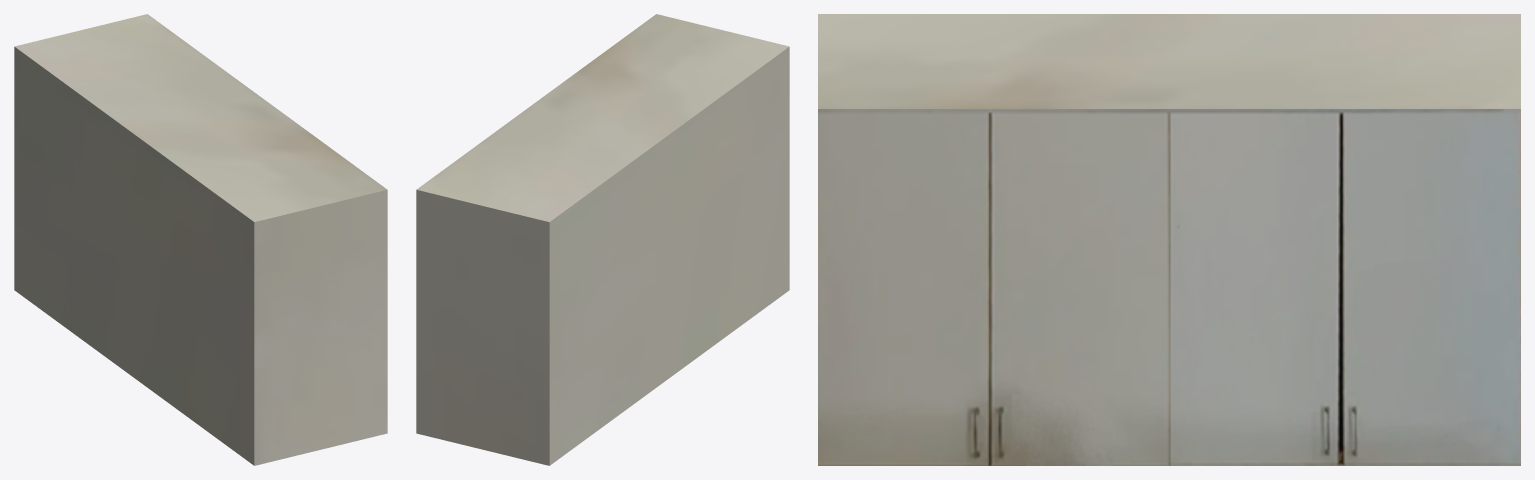
File: KitchenBox3.fbx
3 views of the same model, side by side, from view 1: azimuth 30°, elevation 25°; view 2: azimuth 150°, elevation 25°; view 3: azimuth 270°, elevation 25° (orthographic). The views are drawn at different scales.
Parts seen in each view (by area): view 1: Cube.089; view 2: Cube.089; view 3: Cube.089.
Boxes of the visible parts, bbox=[...] form: Cube.089: bbox=[14, 14, 387, 465]; Cube.089: bbox=[416, 14, 789, 465]; Cube.089: bbox=[818, 14, 1520, 465].
Bounding box in the file's own units: 62.87 × 110 × 196.
Materials: 1 (1 with a texture image).
